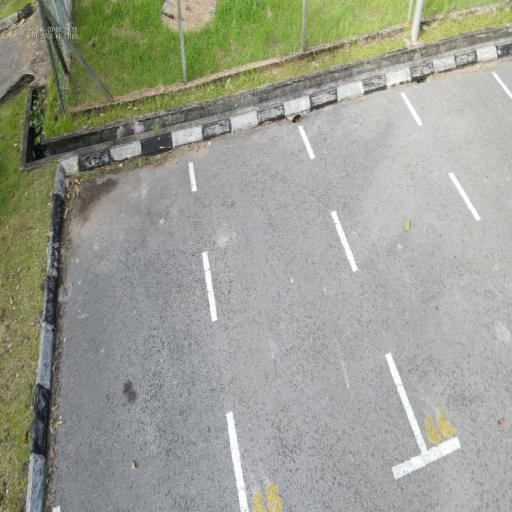Empty: (182, 109, 435, 512), (20, 158, 263, 512)
